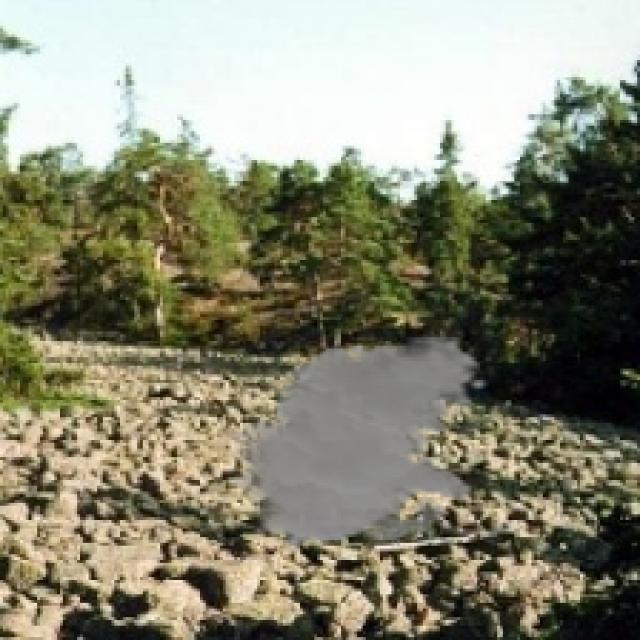Smoke: (220, 334, 489, 549)
